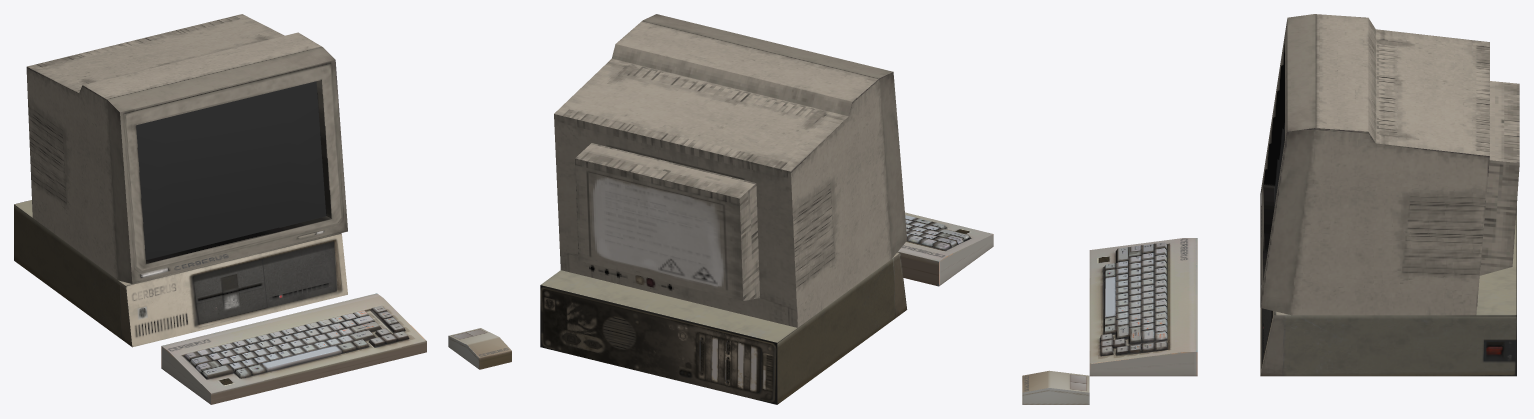
The model's file is computer.fbx.
3 renders of one model, left to right at view 1: azimuth 30°, elevation 25°; view 2: azimuth 150°, elevation 25°; view 3: azimuth 270°, elevation 25°, orthographic. The views are drawn at different scales.
Parts seen in each view (by area): view 1: Computer1; view 2: Computer1; view 3: Computer1.
Part boxes in pixels (left/top/right/bottom): Computer1: left=14, top=14, right=511, bottom=404; Computer1: left=540, top=14, right=993, bottom=404; Computer1: left=1022, top=14, right=1519, bottom=404.
Size of the model in its own units: 29.53 by 23.98 by 43.53.
